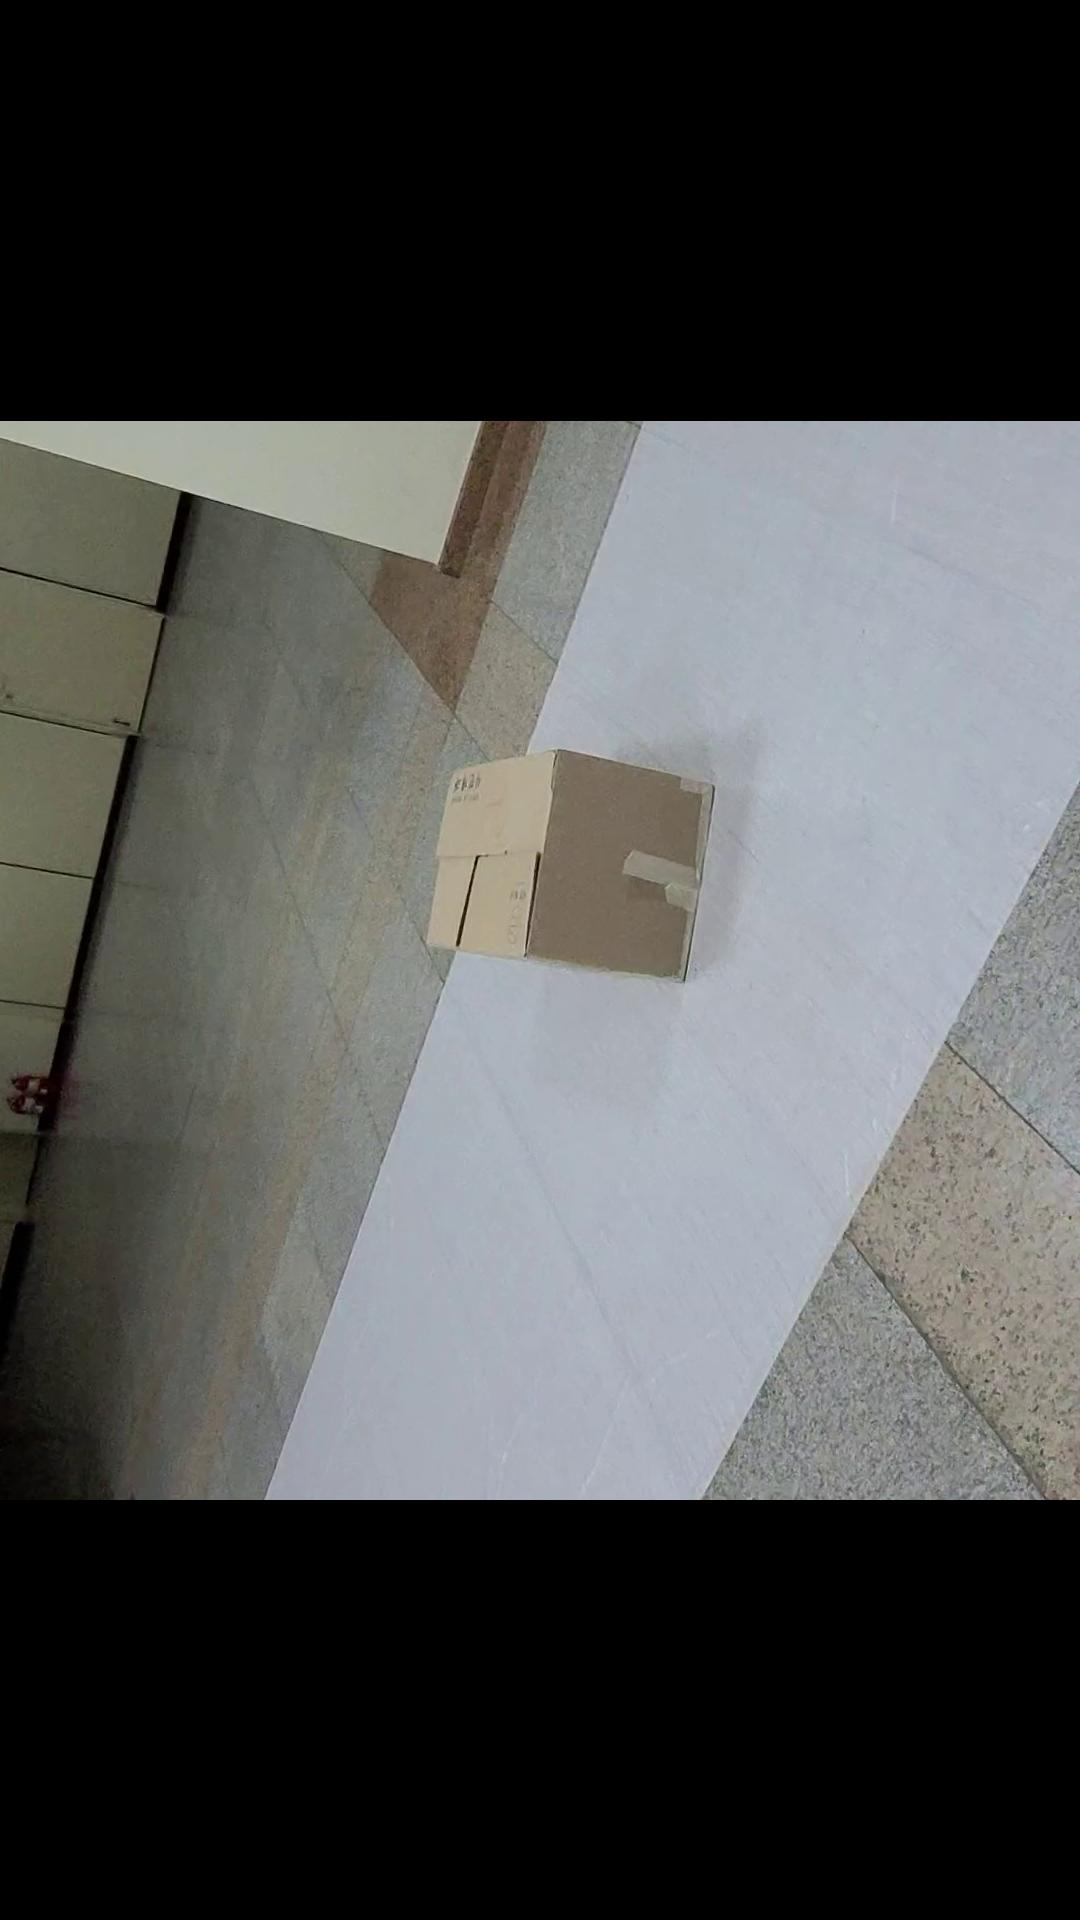Box: (407, 735, 742, 1000)
